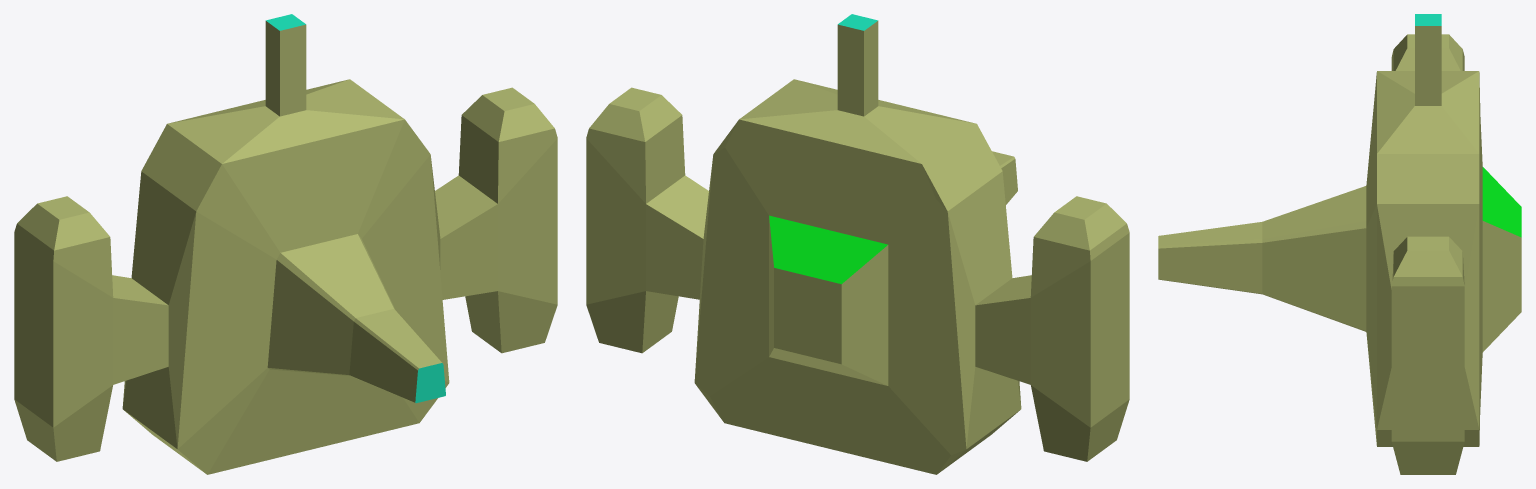
Rendered from SinEnemy.fbx.
3 views of the same model, side by side, from view 1: azimuth 30°, elevation 25°; view 2: azimuth 150°, elevation 25°; view 3: azimuth 270°, elevation 25° (orthographic). The views are drawn at different scales.
Visible parts, largest first — view 1: Cube; view 2: Cube; view 3: Cube.
Boxes of the visible parts, x1,y1,x2,y2 form: Cube: [14, 14, 557, 474]; Cube: [586, 14, 1129, 474]; Cube: [1158, 14, 1521, 474].
Bounding box in the file's own units: 212 × 163 × 142.
